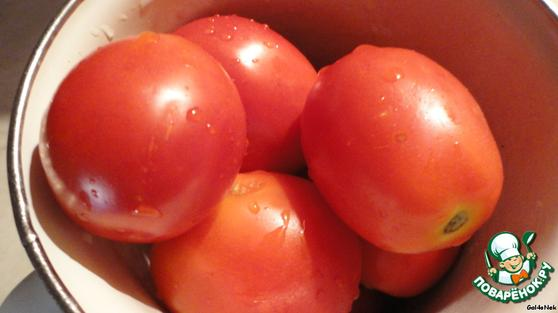tomato: (299, 35, 503, 256), (41, 34, 250, 240)
